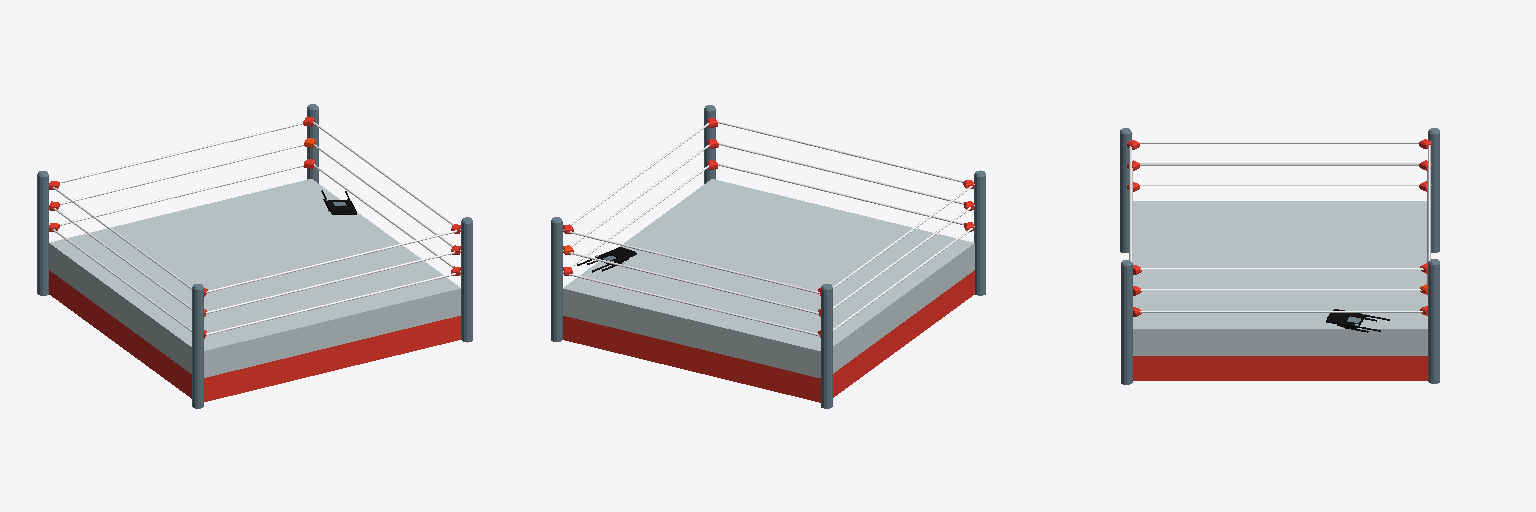
The picture shows the model from 3 angles: view 1: azimuth 30°, elevation 25°; view 2: azimuth 150°, elevation 25°; view 3: azimuth 270°, elevation 25°; orthographic projection.
Visible parts, largest first — view 1: group[number redacted], group[number redacted], group[number redacted], group[number redacted], group[number redacted], group[number redacted], group[number redacted], group[number redacted], group[number redacted], group[number redacted], group[number redacted]; view 2: group[number redacted], group[number redacted], group[number redacted], group[number redacted], group[number redacted], group[number redacted], group[number redacted], group[number redacted], group[number redacted], group[number redacted], group[number redacted]; view 3: group[number redacted], group[number redacted], group[number redacted], group[number redacted], group[number redacted], group[number redacted], group[number redacted], group[number redacted], group[number redacted], group[number redacted], group[number redacted], group[number redacted].
Boxes of the visible parts, x1,y1,x2,y2 form: group[number redacted]: [49, 179, 460, 401]; group[number redacted]: [37, 171, 59, 295]; group[number redacted]: [451, 217, 472, 342]; group[number redacted]: [192, 284, 207, 408]; group[number redacted]: [303, 104, 318, 183]; group[number redacted]: [206, 230, 456, 292]; group[number redacted]: [206, 273, 455, 335]; group[number redacted]: [206, 251, 454, 313]; group[number redacted]: [60, 122, 302, 182]; group[number redacted]: [60, 144, 303, 204]; group[number redacted]: [60, 164, 303, 225]; group[number redacted]: [563, 179, 974, 402]; group[number redacted]: [551, 217, 573, 341]; group[number redacted]: [963, 170, 985, 295]; group[number redacted]: [818, 284, 832, 408]; group[number redacted]: [704, 105, 718, 183]; group[number redacted]: [569, 274, 819, 336]; group[number redacted]: [569, 231, 819, 293]; group[number redacted]: [569, 252, 818, 314]; group[number redacted]: [717, 121, 963, 182]; group[number redacted]: [719, 143, 963, 204]; group[number redacted]: [718, 163, 963, 224]; group[number redacted]: [1133, 201, 1427, 380]; group[number redacted]: [1121, 260, 1141, 384]; group[number redacted]: [1420, 259, 1439, 383]; group[number redacted]: [1419, 128, 1439, 252]; group[number redacted]: [1120, 128, 1139, 252]; group[number redacted]: [1140, 163, 1419, 165]; group[number redacted]: [1326, 309, 1389, 332]; group[number redacted]: [1140, 268, 1423, 269]; group[number redacted]: [1140, 311, 1422, 312]; group[number redacted]: [1140, 289, 1421, 290]; group[number redacted]: [1139, 184, 1419, 185]; group[number redacted]: [1139, 142, 1418, 143].
Bounding box in the file's own units: 7.53 × 3.1 × 7.42.